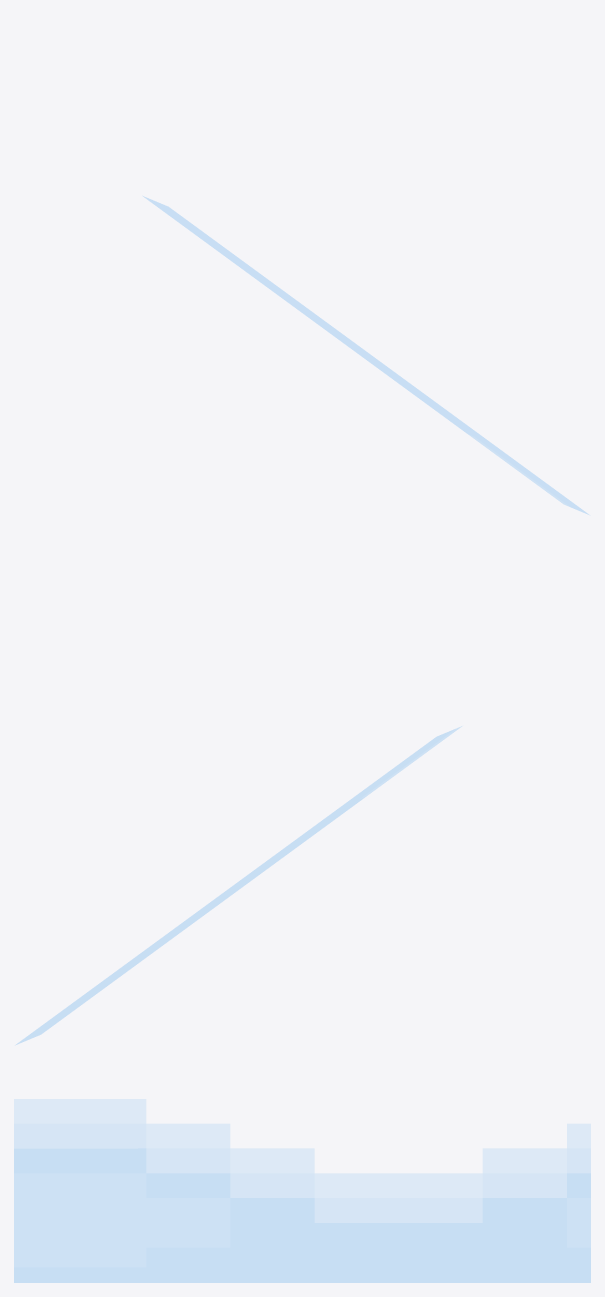
The picture shows the model from 3 angles, top to bottom: view 1: azimuth 30°, elevation 25°; view 2: azimuth 150°, elevation 25°; view 3: azimuth 270°, elevation 25°; orthographic projection. The views are drawn at different scales.
Size of the model in its own units: 0.2114 by 0.3007 by 1.
Materials: 1 (1 with a texture image).
